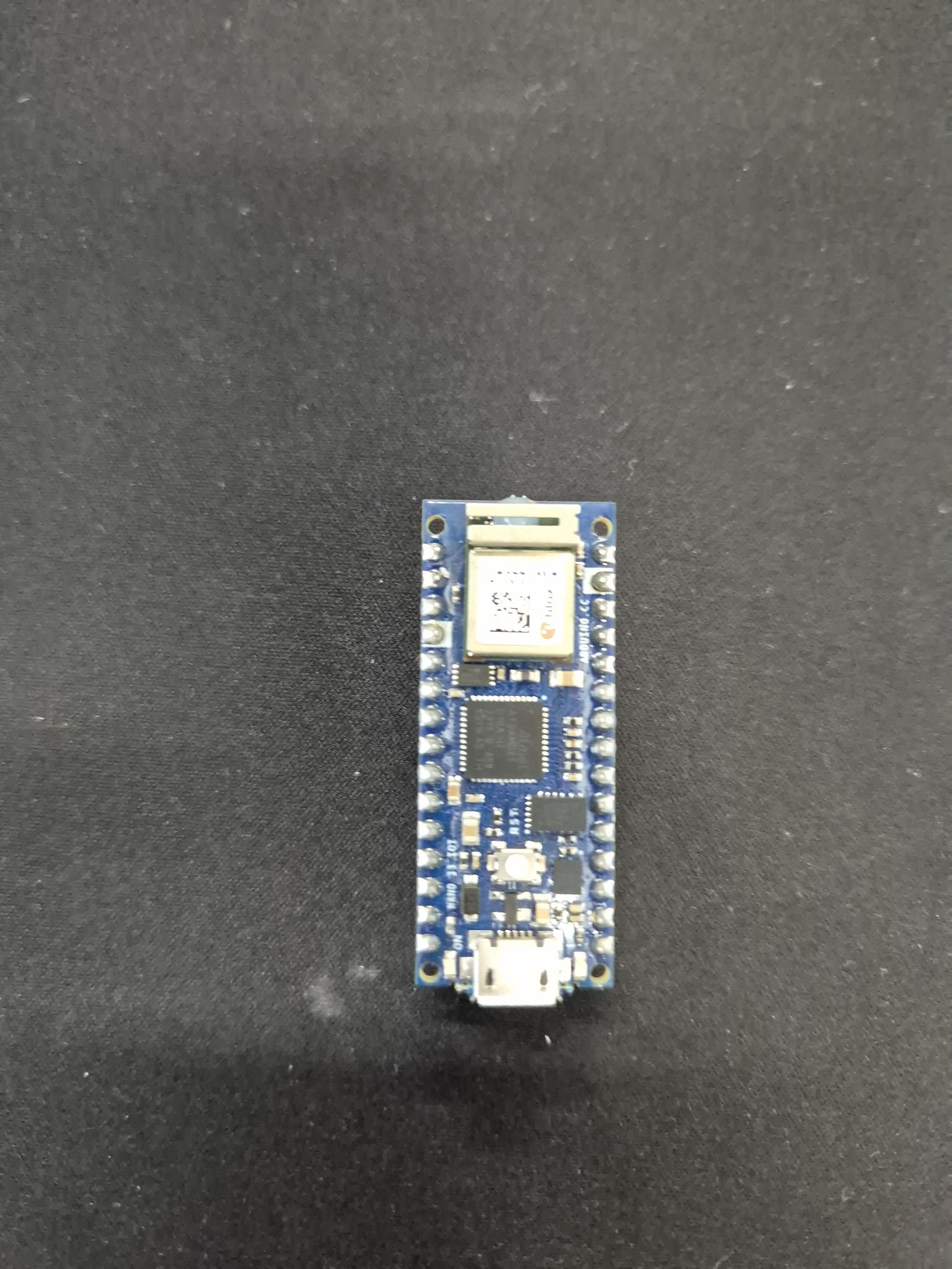arduino-nano-iot-33: (416, 496, 616, 1007)
